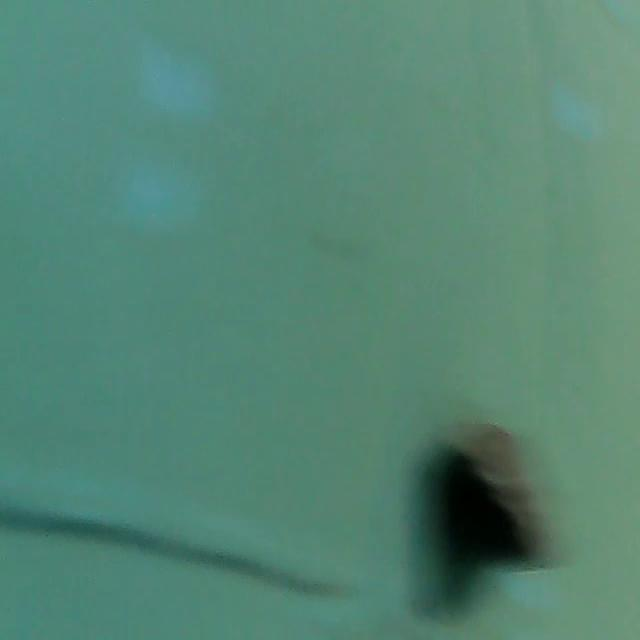rock: (428, 412, 564, 578)
